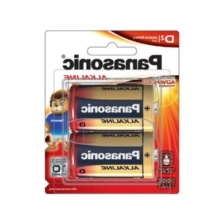battery: (66, 79, 160, 135), (66, 130, 159, 181)
